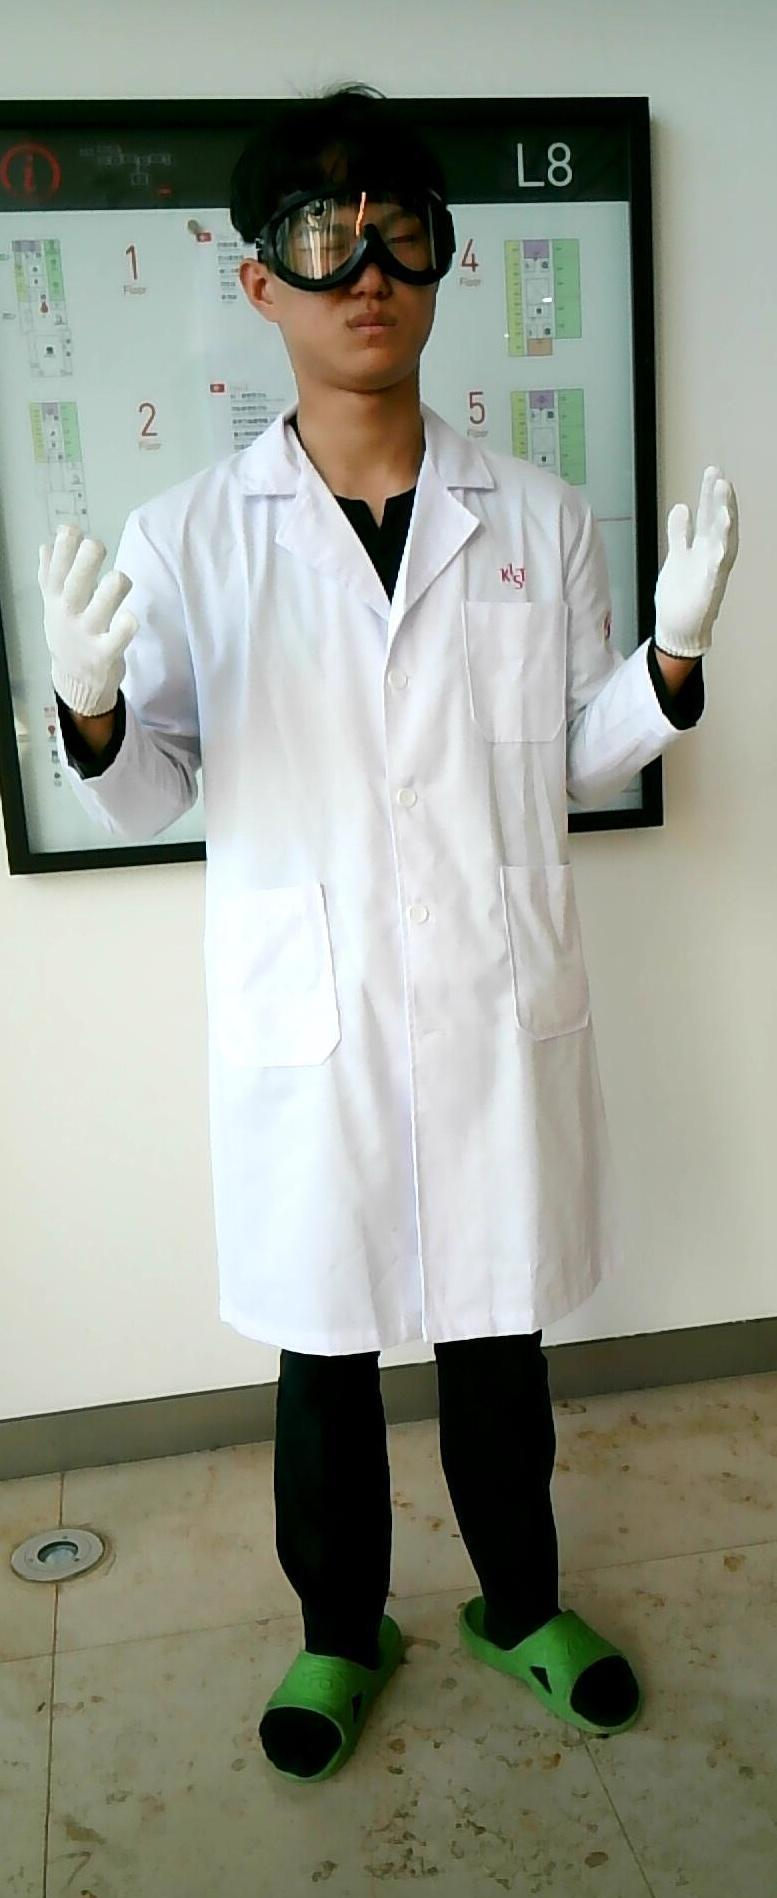lab_coat: (165, 517, 604, 1342)
